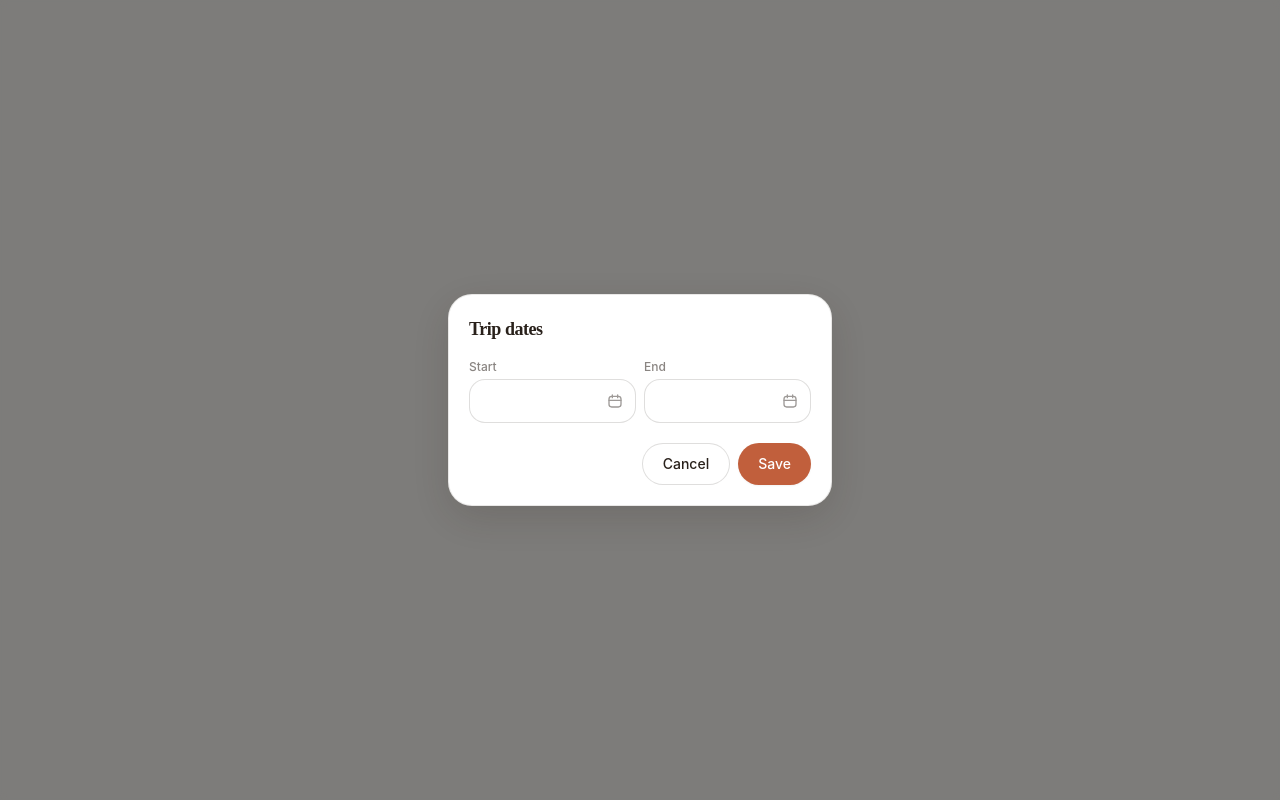
it: EditTripDatesModal › rejects an end date before the start date without saving
This screenshot has width=1280, height=800.
Type "2026-07-01" into the date field labelled "End" at x=728, y=401, box x1=644 y1=379 x2=811 y2=423
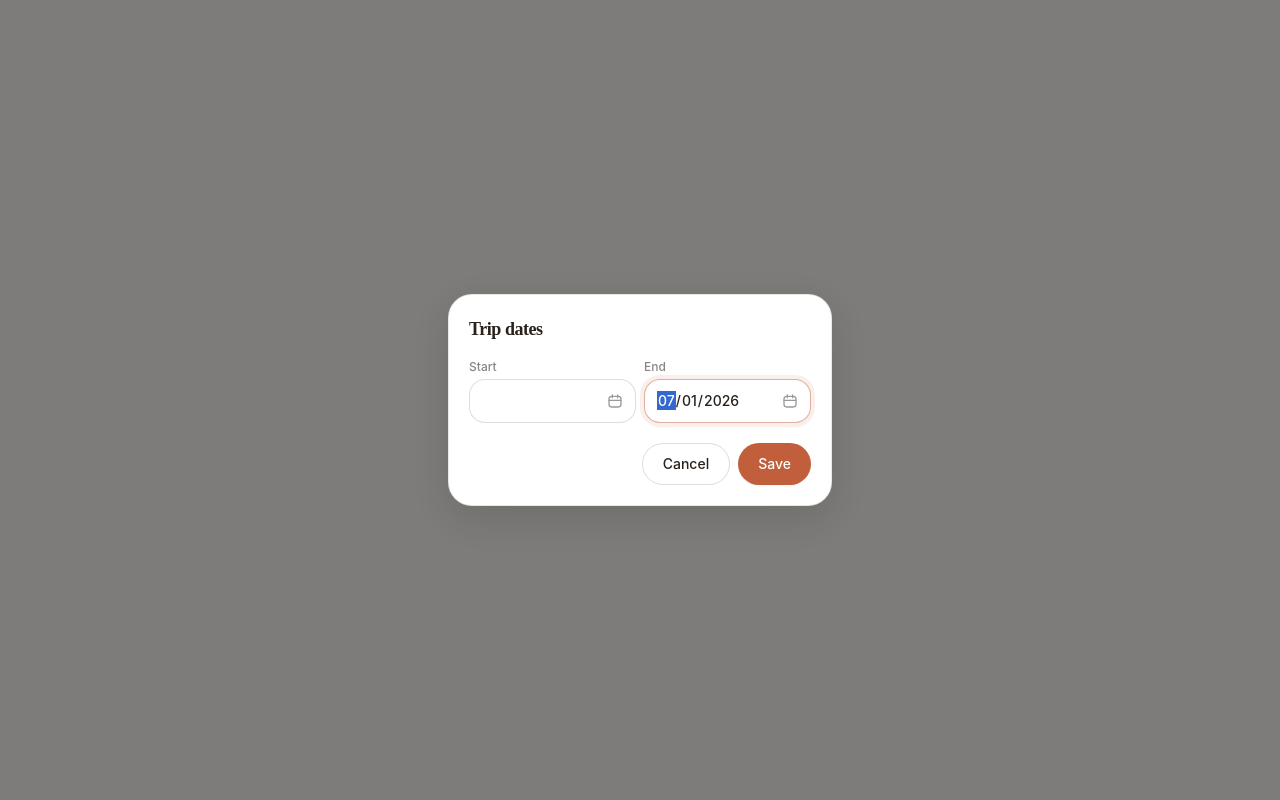
Click the button "Save" at x=775, y=464, box x1=738 y1=443 x2=811 y2=485
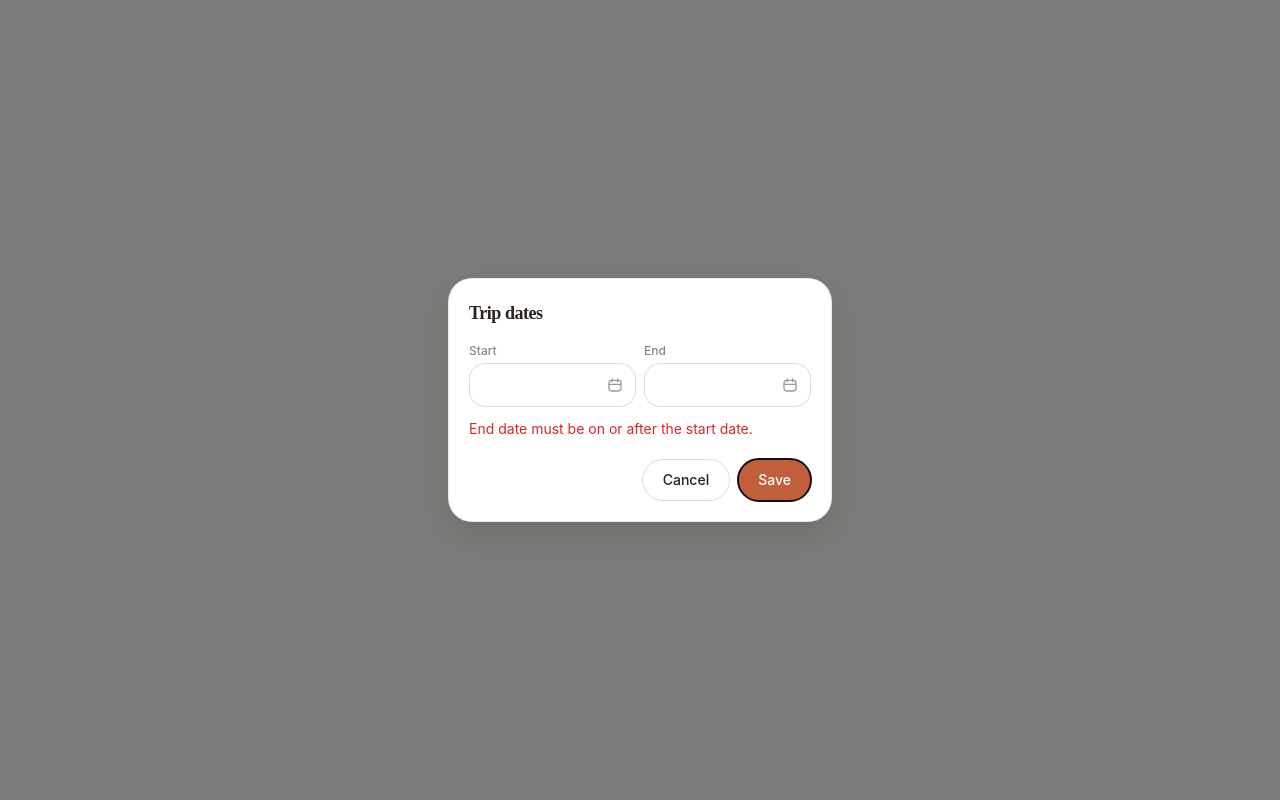
Now the text "End date must be on or after the start date." is shown, box x1=469 y1=420 x2=753 y2=437
